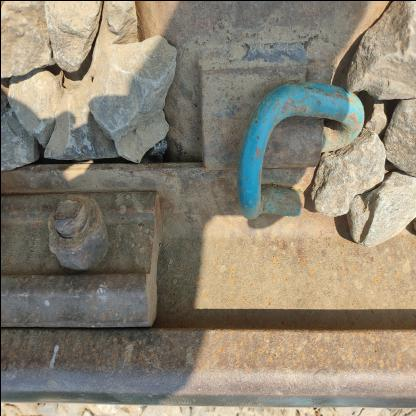Non Defective: (176, 15, 406, 254)
